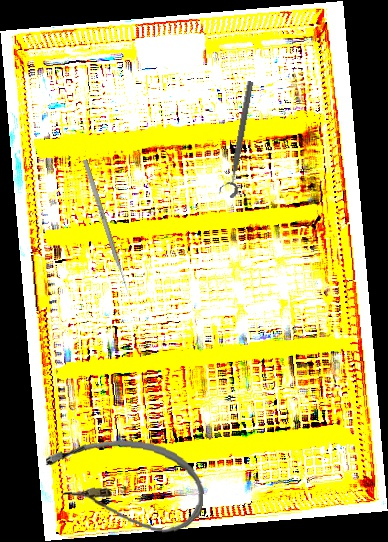Cannula: (40, 433, 208, 537)
Fixation Ring: (216, 79, 258, 199)
Pusher: (82, 159, 132, 298)
